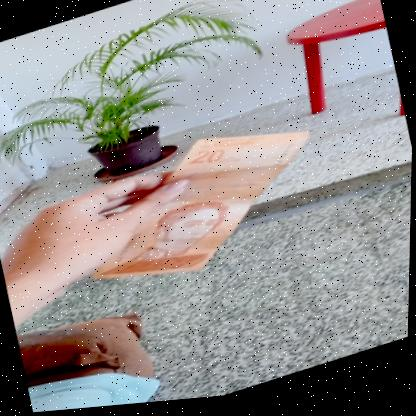twenty-front-vef: (66, 108, 334, 310)
